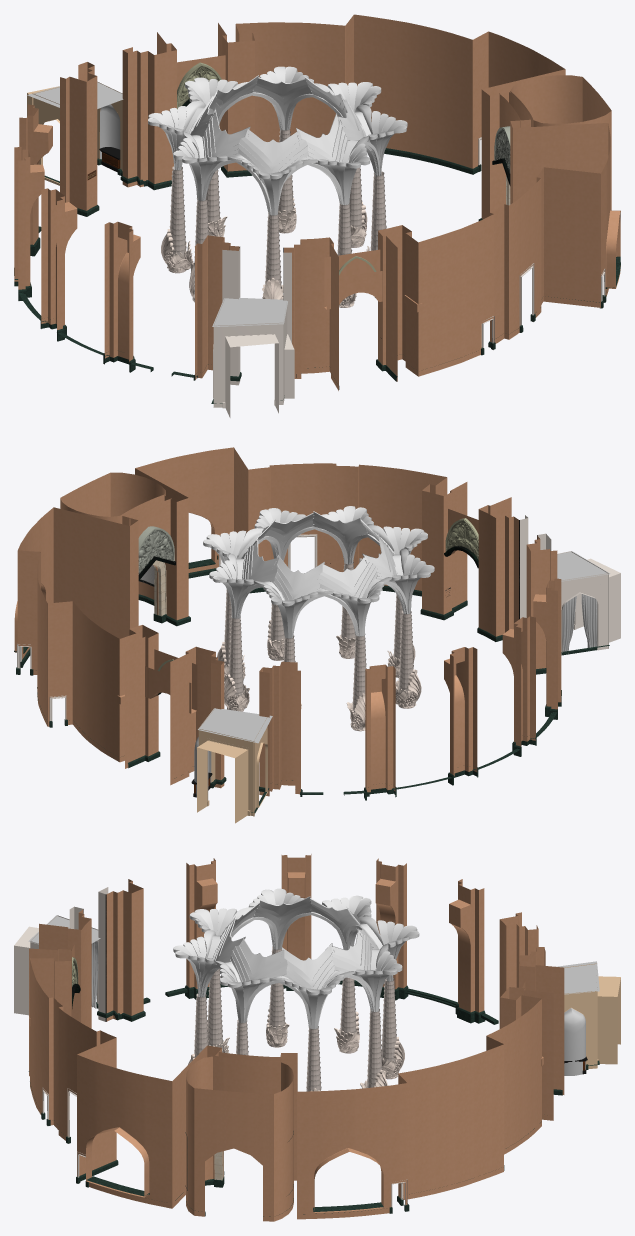
The model's file is Wall.fbx.
3 views of the same model, one above another, from view 1: azimuth 30°, elevation 25°; view 2: azimuth 150°, elevation 25°; view 3: azimuth 270°, elevation 25° (orthographic). The views are drawn at different scales.
Visible parts, largest first — view 1: Wall_MainArea, PillarFishtail, Skirting, PilarFish.008, PilarFish.002, PilarFish.005, PilarFish.006, PilarFish.004, PilarFish.003, PilarFish.007, PilarFish.001, DoorDecorWest (+1 smaller); view 2: Wall_MainArea, PillarFishtail, Skirting, PilarFish.001, PilarFish.006, DoorDecorMiddle, Curtain01, PilarFish.008, DoorDecorEast, PilarFish.004, FrameDoorMid, PilarFish.003 (+2 smaller); view 3: Wall_MainArea, PillarFishtail, Skirting, PilarFish.007, PilarFish.008, PilarFish.001, PilarFish.006, PilarFish.002, PilarFish.005, PilarFish.003.
Part boxes in pixels (x1,y1,x2,y2): Wall_MainArea: (14, 14, 620, 417); PillarFishtail: (148, 66, 407, 215); Skirting: (14, 137, 606, 403); PilarFish.008: (161, 166, 193, 273); PilarFish.002: (262, 212, 283, 299); PilarFish.005: (349, 167, 367, 247); PilarFish.006: (278, 129, 296, 233); PilarFish.004: (366, 171, 386, 251); PilarFish.003: (337, 202, 356, 307); PilarFish.007: (206, 170, 227, 236); PilarFish.001: (189, 197, 208, 302); DoorDecorWest: (177, 62, 221, 109); Wall_MainArea: (14, 447, 620, 823); PillarFishtail: (203, 506, 434, 638); Skirting: (16, 534, 609, 812); PilarFish.001: (395, 611, 421, 708); PilarFish.006: (224, 615, 249, 711); DoorDecorMiddle: (138, 526, 175, 580); Curtain01: (562, 594, 597, 653); PilarFish.008: (346, 633, 366, 731); DoorDecorEast: (444, 518, 478, 568); PilarFish.004: (267, 603, 284, 660); FrameDoorMid: (152, 560, 166, 623); PilarFish.003: (336, 561, 355, 658); Wall_MainArea: (14, 854, 620, 1221); PillarFishtail: (173, 888, 419, 1029); Skirting: (28, 980, 599, 1216); PilarFish.007: (381, 978, 404, 1079); PilarFish.008: (334, 977, 359, 1053); PilarFish.001: (266, 946, 289, 1047); PilarFish.006: (360, 1009, 387, 1088); PilarFish.002: (207, 968, 229, 1053); PilarFish.005: (306, 1026, 321, 1091); PilarFish.003: (188, 993, 208, 1064).
Size of the model in its own units: 4028 by 1308 by 4245.
